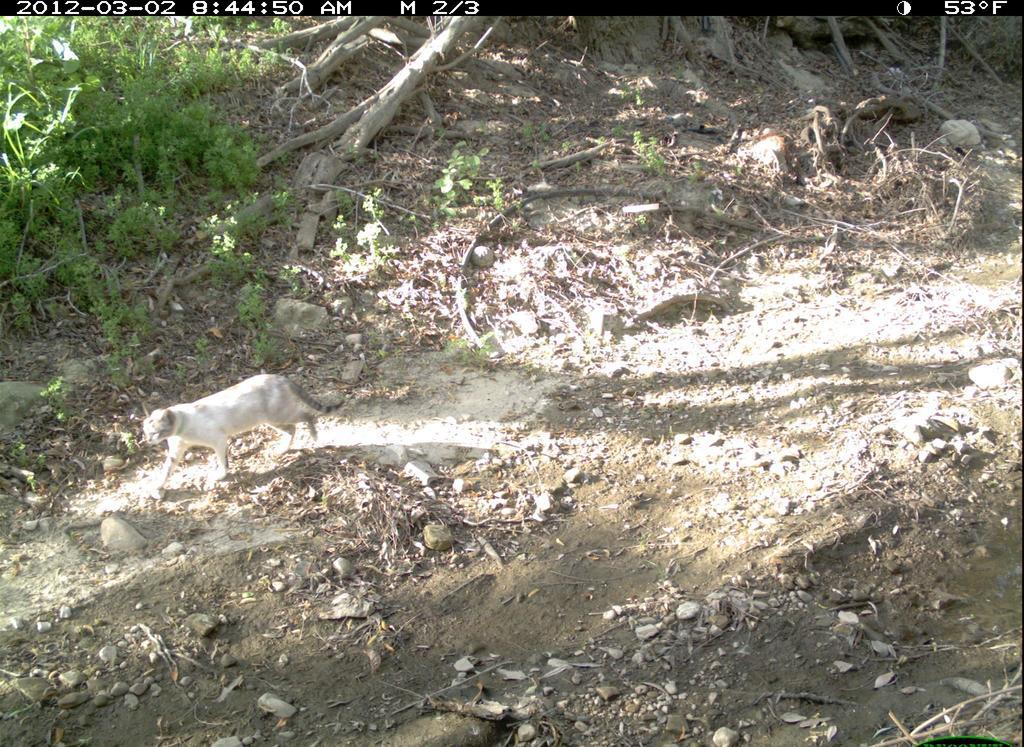cat: (139, 369, 351, 498)
